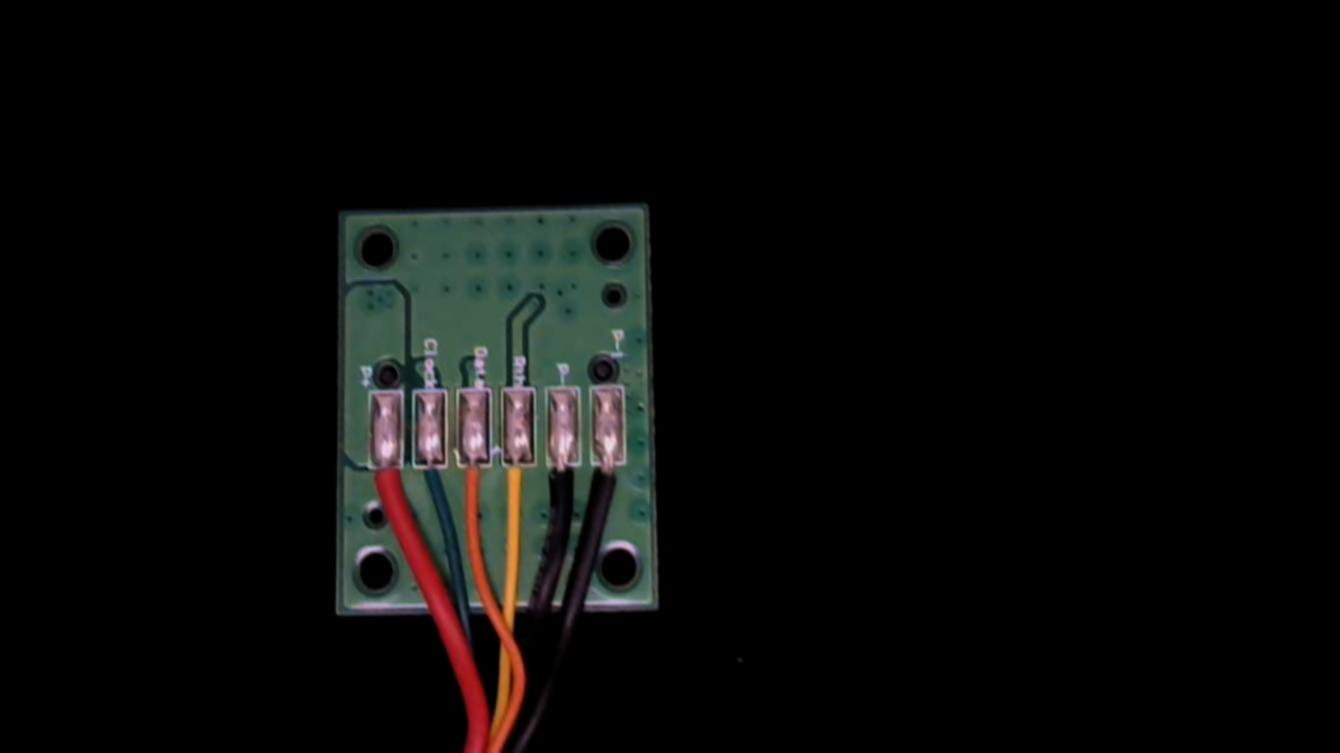Black: (542, 439, 583, 530)
Black1: (587, 440, 626, 524)
Green: (410, 434, 450, 521)
Orange: (455, 436, 492, 526)
Red: (366, 440, 405, 527)
Yellow: (501, 438, 541, 531)
